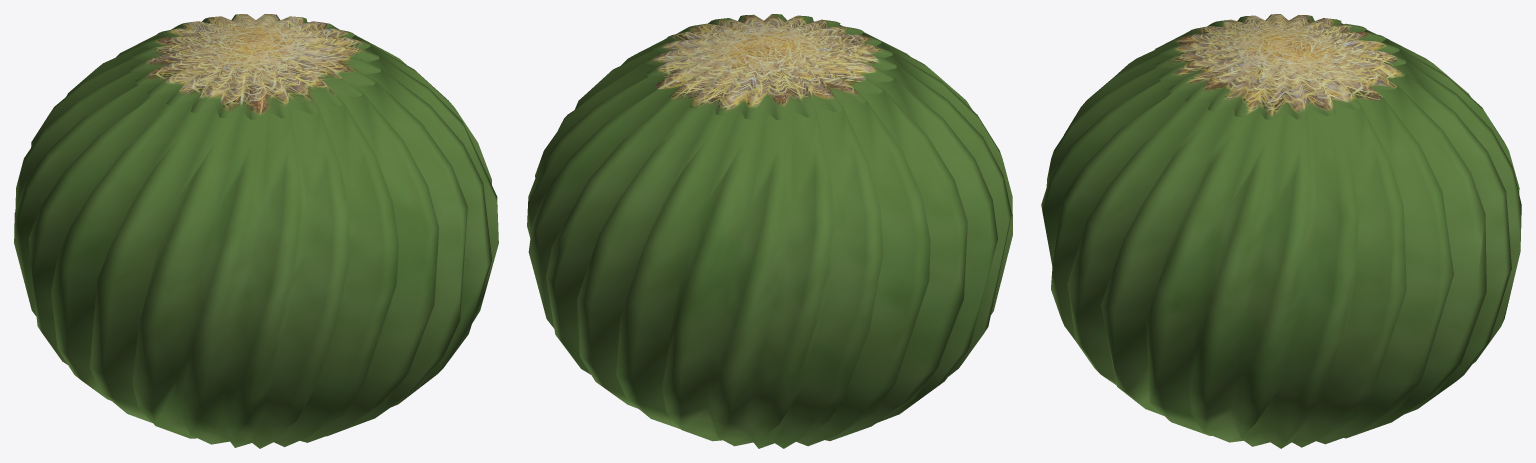
The model's file is cactus_barrel_0.glb.
The picture shows the model from 3 angles, left to right: view 1: azimuth 30°, elevation 25°; view 2: azimuth 150°, elevation 25°; view 3: azimuth 270°, elevation 25°; orthographic projection.
Parts seen in each view (by area): view 1: prop; view 2: prop; view 3: prop.
Boxes of the visible parts, left/top/right/bottom form: prop: left=14, top=14, right=498, bottom=448; prop: left=527, top=14, right=1012, bottom=448; prop: left=1041, top=14, right=1521, bottom=448.
Size of the model in its own units: 0.972 by 0.8 by 0.9618.
Materials: 2 (2 with a texture image).
